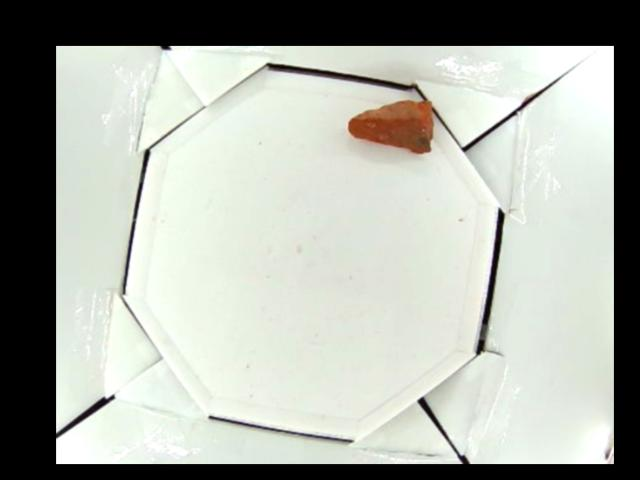Brisk: (348, 99, 434, 153)
